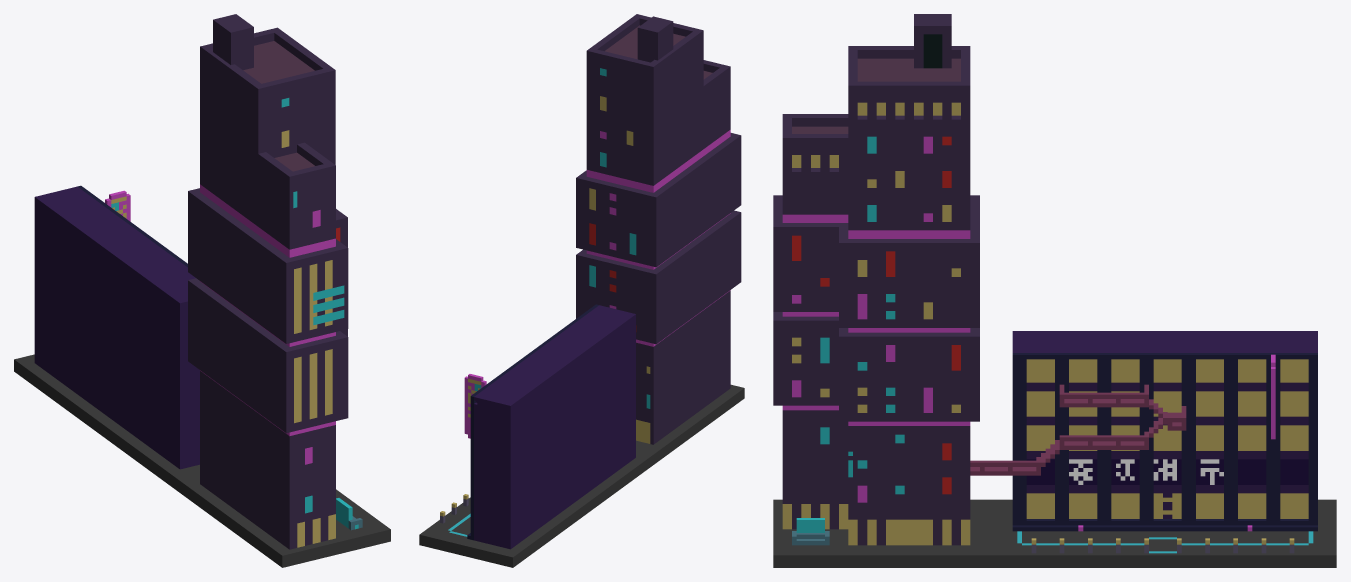
The model's file is SM_Environment_Street1.fbx.
The picture shows the model from 3 angles, left to right: view 1: azimuth 30°, elevation 25°; view 2: azimuth 150°, elevation 25°; view 3: azimuth 270°, elevation 25°; orthographic projection. The views are drawn at different scales.
Parts seen in each view (by area): view 1: SM_Environment_Street1; view 2: SM_Environment_Street1; view 3: SM_Environment_Street1.
Boxes of the visible parts, left/top/right/bottom form: SM_Environment_Street1: left=14, top=14, right=390, bottom=567; SM_Environment_Street1: left=419, top=14, right=744, bottom=567; SM_Environment_Street1: left=773, top=14, right=1336, bottom=567.
Size of the model in its own units: 560 by 2380 by 2400.
5 materials, 1 textured.
